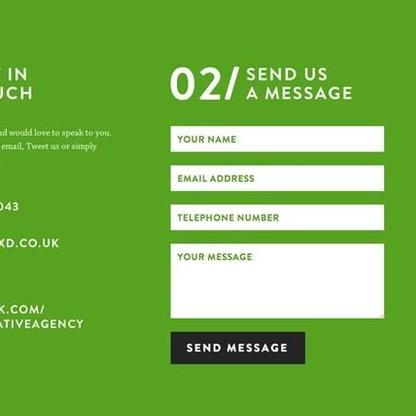button: (170, 331, 305, 365)
field: (170, 242, 385, 319), (169, 203, 385, 232), (169, 125, 385, 153), (169, 164, 385, 192)
